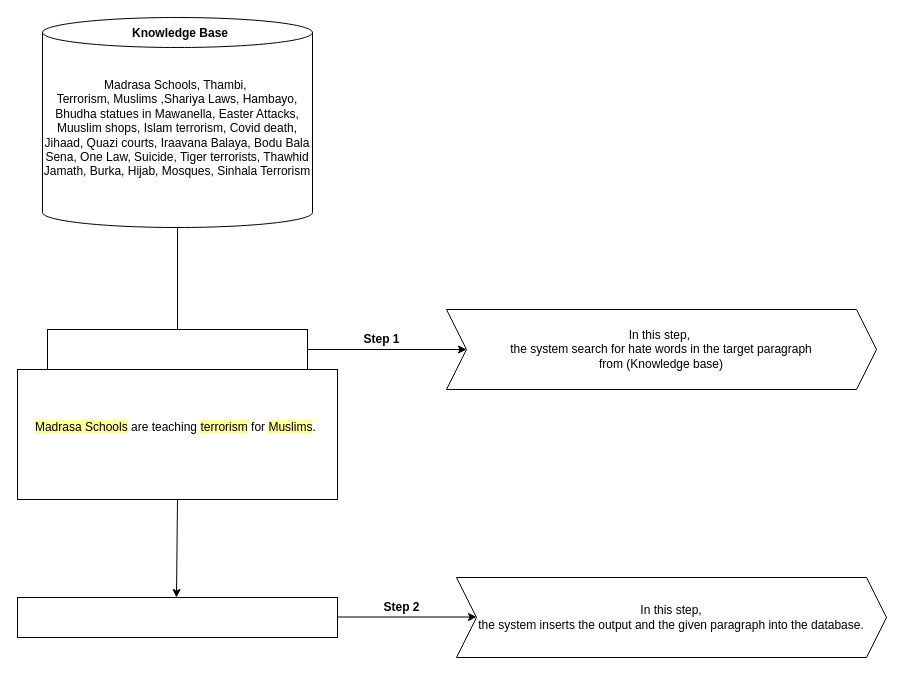
Image size: 904x675. Some labels were removed from this diagram. The shapes that lost their labels are listed below. From the top down, each one's centre as x and y in pixels, then its label:
At (177,349): "Hate word detection".
At (177,617): "Producing Report".
